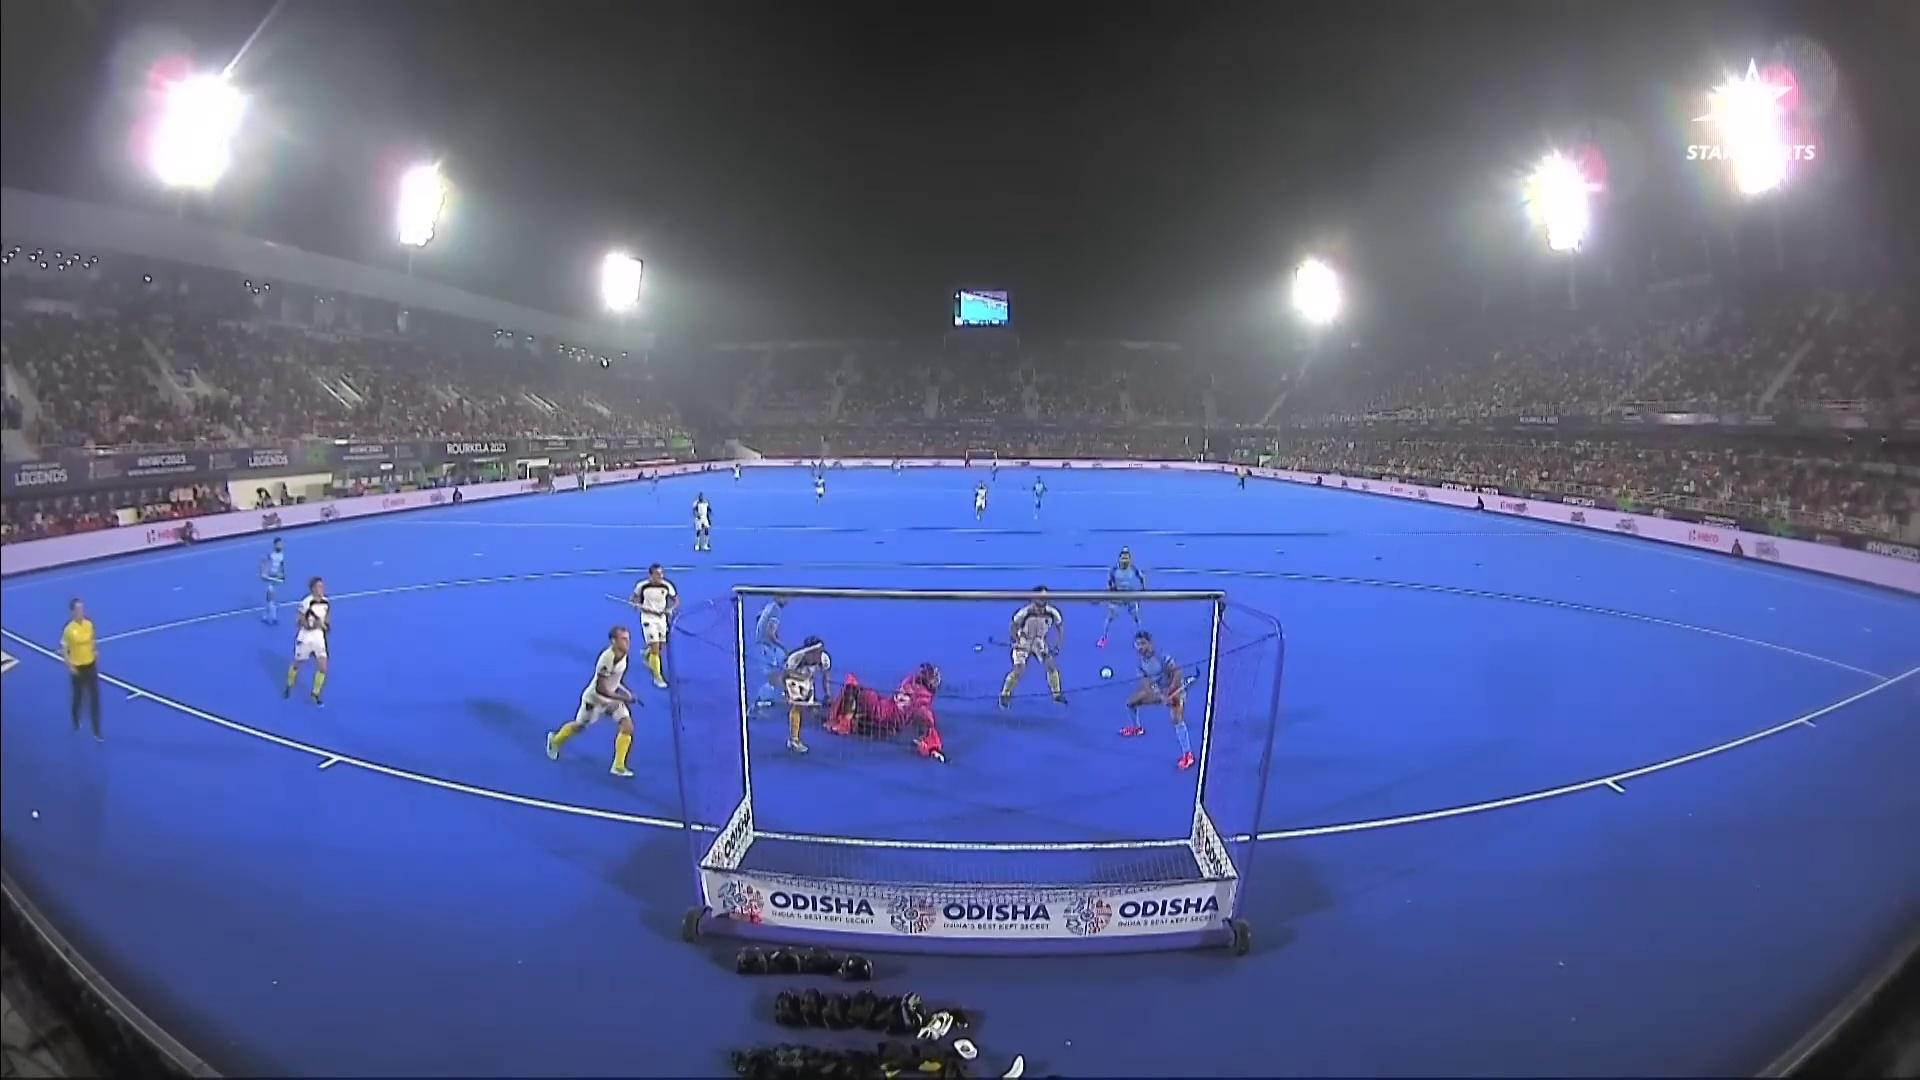ball: (1088, 651, 1125, 688)
